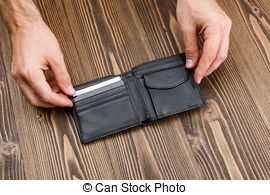monedero: (64, 51, 209, 147)
